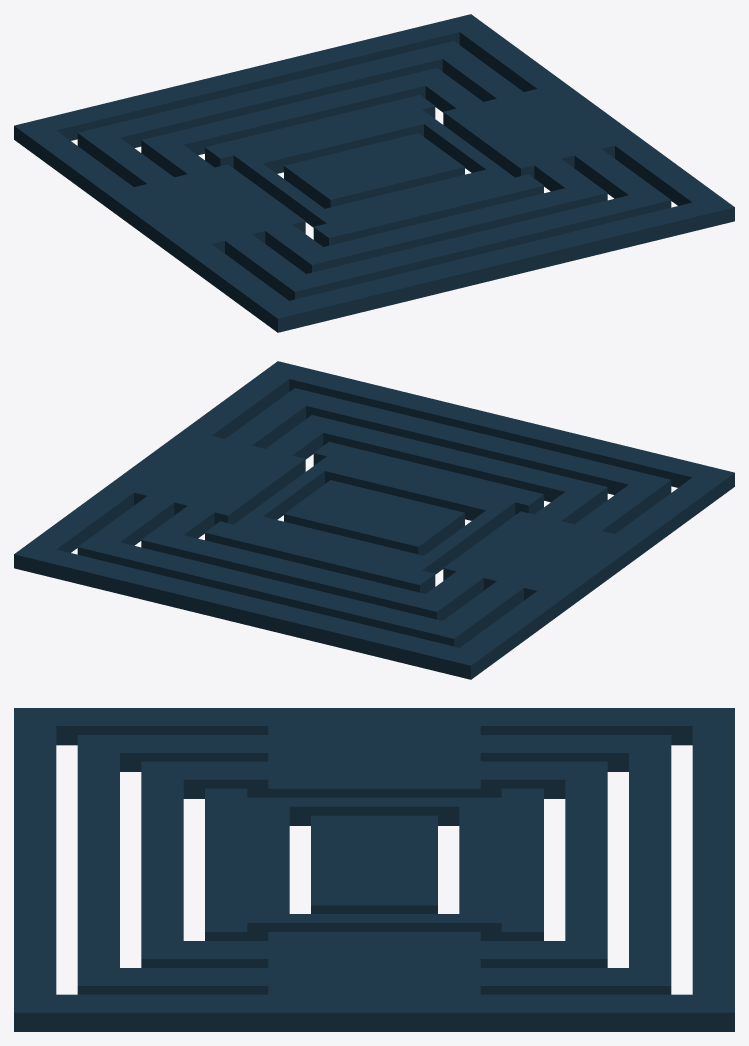
The model's file is Ground_Portal.dae.
3 renders of one model, top to bottom at view 1: azimuth 30°, elevation 25°; view 2: azimuth 150°, elevation 25°; view 3: azimuth 270°, elevation 25°, orthographic. The views are drawn at different scales.
Parts seen in each view (by area): view 1: Ground_Portal; view 2: Ground_Portal; view 3: Ground_Portal.
Part boxes in pixels (x1,y1,x2,y2): Ground_Portal: (14,14,734,332); Ground_Portal: (14,361,734,679); Ground_Portal: (14,708,734,1031).
Bounding box in the file's own units: 0.85 × 0.85 × 0.025.
